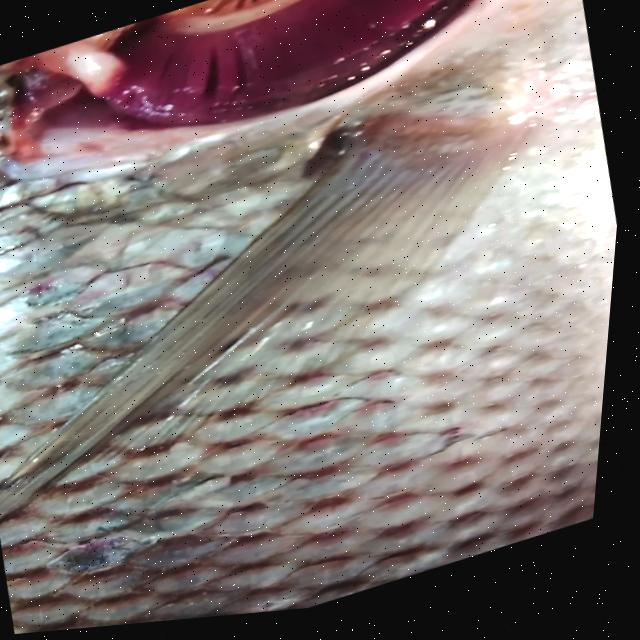Fresh: (0, 84, 632, 640), (7, 0, 521, 194)
